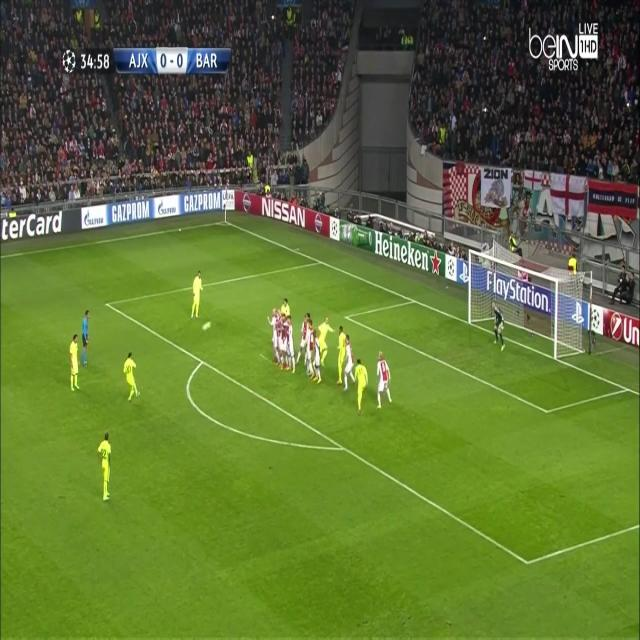Ball: (200, 318, 212, 336)
Goalkeeper: (489, 297, 509, 355)
Player: (96, 429, 115, 505), (351, 357, 369, 418), (375, 347, 392, 411), (122, 350, 142, 403), (333, 324, 348, 390), (316, 313, 334, 367), (188, 270, 206, 323), (296, 312, 311, 373), (266, 306, 281, 364), (67, 331, 80, 395), (342, 333, 354, 395), (286, 315, 299, 368), (280, 296, 292, 318)
Referee: (79, 307, 92, 370)
